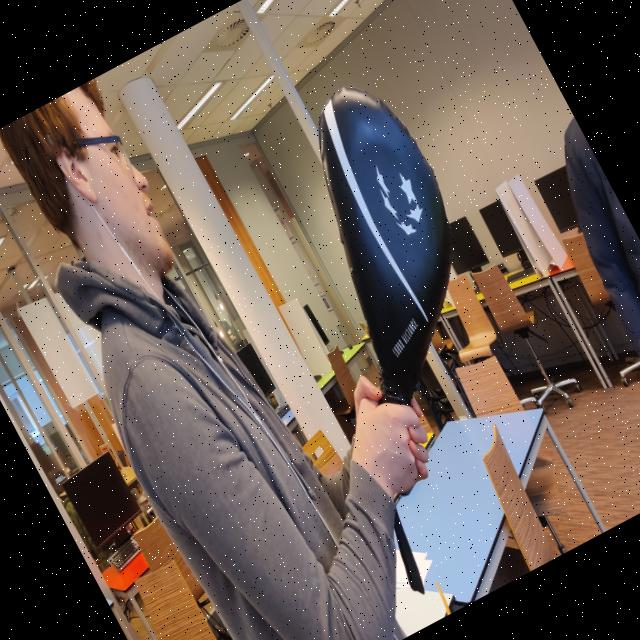paddle: (317, 85, 451, 406)
